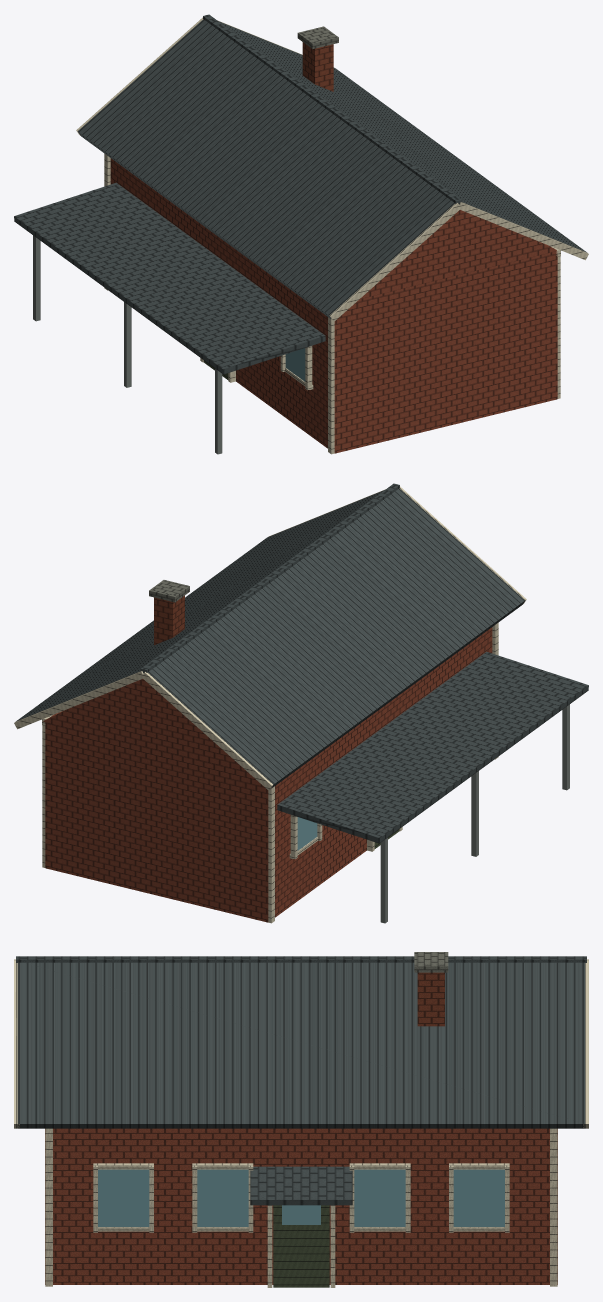
File: norway-station-interwar_lod1.glb
3 views of the same model, one above another, from view 1: azimuth 30°, elevation 25°; view 2: azimuth 150°, elevation 25°; view 3: azimuth 270°, elevation 25° (orthographic). The views are drawn at different scales.
Visible parts, largest first — view 1: RF_Station_Roof-1, RF_Station_Body, RF_Station_Canopy, RF_Station_Roof1, RF_Station_Gable.001, RF_Station_Ridge, RF_Station_Vergeband.001, RF_Station_Chimney, RF_Station_Vergeband.003, RF_Station_Corner.001, RF_Station_Post, RF_Station_Post.001 (+3 smaller); view 2: RF_Station_Roof-1, RF_Station_Body, RF_Station_Canopy, RF_Station_Roof1, RF_Station_Gable, RF_Station_Ridge, RF_Station_Vergeband.002, RF_Station_Chimney, RF_Station_Vergeband, RF_Station_Corner.002, RF_Station_Post.001, RF_Station_Post.002 (+3 smaller); view 3: RF_Station_Roof1, RF_Station_Body, RF_Station_PublicAwning, RF_Station_Door, RF_Station_Ridge, RF_Station_Window.006, RF_Station_Window.007, RF_Station_Window.005, RF_Station_Window, RF_Station_Chimney, RF_Station_Corner.003, RF_Station_Corner (+6 smaller).
Boxes of the visible parts, <box> form: RF_Station_Roof-1: <box>78,19,454,318</box>; RF_Station_Body: <box>110,158,557,453</box>; RF_Station_Canopy: <box>14,182,325,374</box>; RF_Station_Roof1: <box>218,21,586,252</box>; RF_Station_Gable.001: <box>360,210,556,298</box>; RF_Station_Ridge: <box>203,14,462,204</box>; RF_Station_Vergeband.001: <box>329,203,461,321</box>; RF_Station_Chimney: <box>302,42,333,91</box>; RF_Station_Vergeband.003: <box>459,202,588,260</box>; RF_Station_Corner.001: <box>328,317,334,454</box>; RF_Station_Post: <box>33,235,40,321</box>; RF_Station_Post.001: <box>215,368,222,454</box>; RF_Station_Roof-1: <box>148,488,524,787</box>; RF_Station_Body: <box>45,627,492,922</box>; RF_Station_Canopy: <box>277,651,588,843</box>; RF_Station_Roof1: <box>16,490,384,721</box>; RF_Station_Gable: <box>43,679,246,771</box>; RF_Station_Ridge: <box>140,483,399,673</box>; RF_Station_Vergeband.002: <box>141,672,273,790</box>; RF_Station_Chimney: <box>154,595,184,645</box>; RF_Station_Vergeband: <box>14,671,143,729</box>; RF_Station_Corner.002: <box>268,786,274,923</box>; RF_Station_Post.001: <box>562,704,569,790</box>; RF_Station_Post.002: <box>471,771,478,856</box>; RF_Station_Roof1: <box>17,962,585,1128</box>; RF_Station_Body: <box>45,1128,557,1284</box>; RF_Station_PublicAwning: <box>250,1166,352,1205</box>; RF_Station_Door: <box>273,1205,329,1287</box>; RF_Station_Ridge: <box>16,956,586,962</box>; RF_Station_Window.006: <box>197,1169,248,1226</box>; RF_Station_Window.007: <box>354,1169,405,1226</box>; RF_Station_Window.005: <box>98,1169,149,1226</box>; RF_Station_Window: <box>453,1169,504,1226</box>; RF_Station_Chimney: <box>417,972,444,1026</box>; RF_Station_Corner.003: <box>45,1128,52,1286</box>; RF_Station_Corner: <box>550,1128,557,1286</box>.
Size of the model in its own units: 14.23 by 9.3 by 16.82.
Materials: 8 (6 with a texture image).
